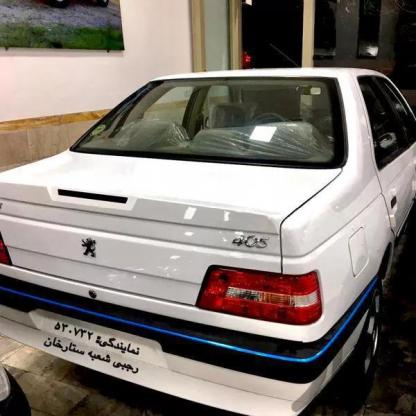Car: (0, 69, 416, 416)
